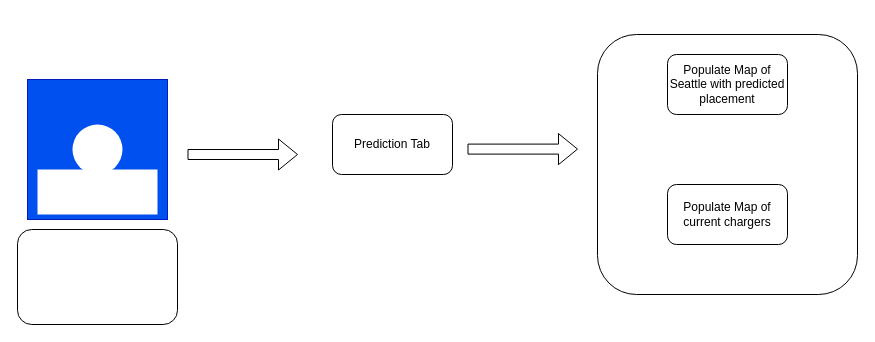
The diagram is 875 pixels wide and 342 high, and some of its shapes have lost their labels. Each missing label, with the box of its shape:
Default: (596, 34, 858, 294)
User would like to see predicted placement of chargers: (16, 228, 178, 324)
